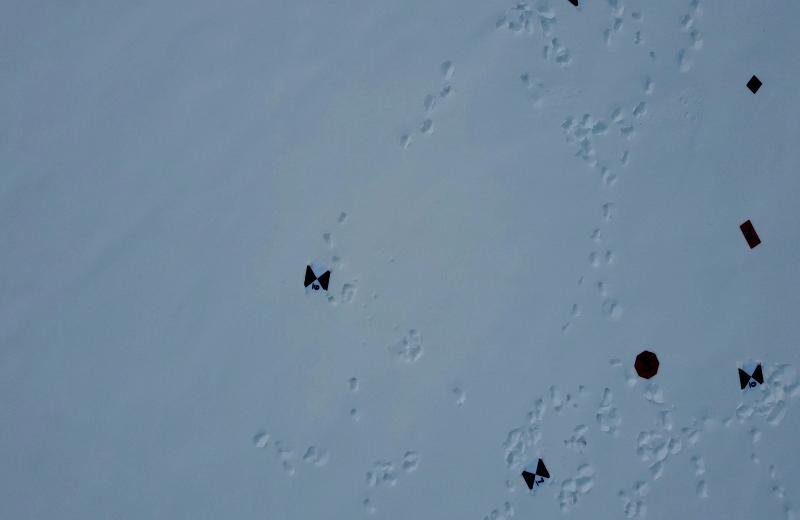Octagon: (631, 348, 661, 383)
Rectangle: (737, 215, 763, 254)
Square: (741, 72, 764, 96)
